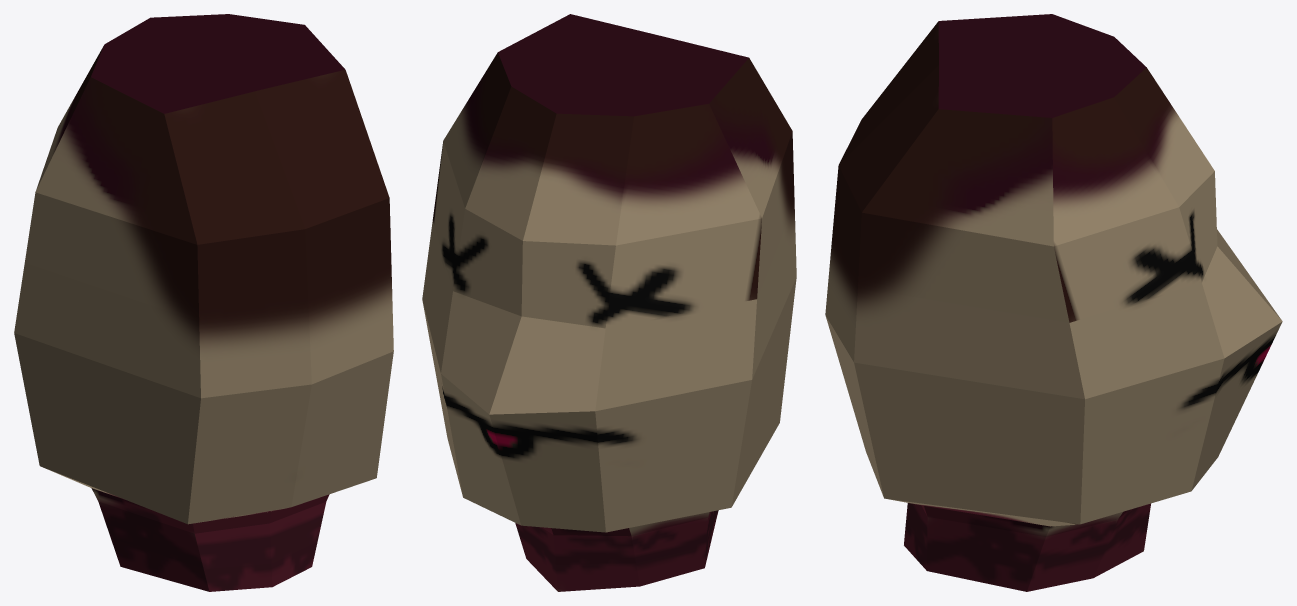
Rendered from head.fbx.
3 views of the same model, side by side, from view 1: azimuth 30°, elevation 25°; view 2: azimuth 150°, elevation 25°; view 3: azimuth 270°, elevation 25° (orthographic).
Parts seen in each view (by area): view 1: Player_Body; view 2: Player_Body; view 3: Player_Body.
Boxes of the visible parts, <box> form: Player_Body: <box>14,14,393,591</box>; Player_Body: <box>422,14,796,591</box>; Player_Body: <box>825,14,1282,591</box>.
Size of the model in its own units: 47.75 by 66.67 by 56.79.
1 material, 1 textured.
